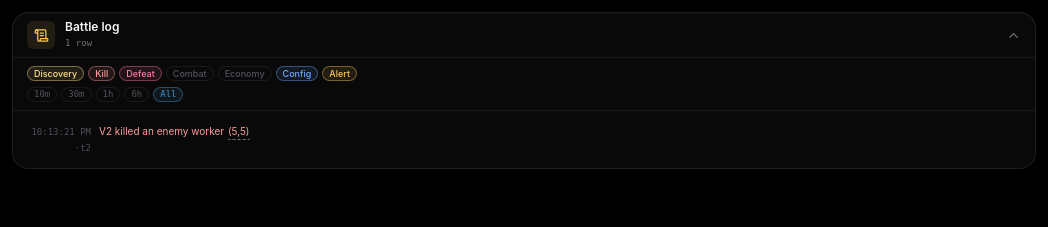
Test case: BattleLogPanel › hides noisy categories by default and restores them via the filter chip
This screenshot has width=1048, height=227.
Expected: the text "V2 killed an enemy worker" is shown, [99,125,227,137]
Expected: the text "W1 harvest" is not shown
Click the button "Economy".
click(245, 74)  # box [218,66,272,81]
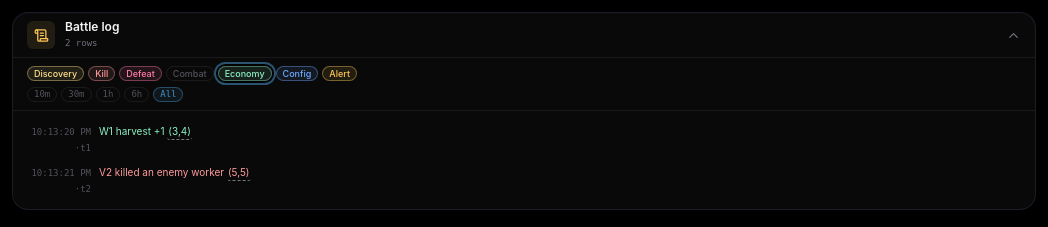
Result: the text "W1 harvest +1" is shown at [99,125,167,137]
Result: the text "2 rows" is shown at [65,38,98,48]
